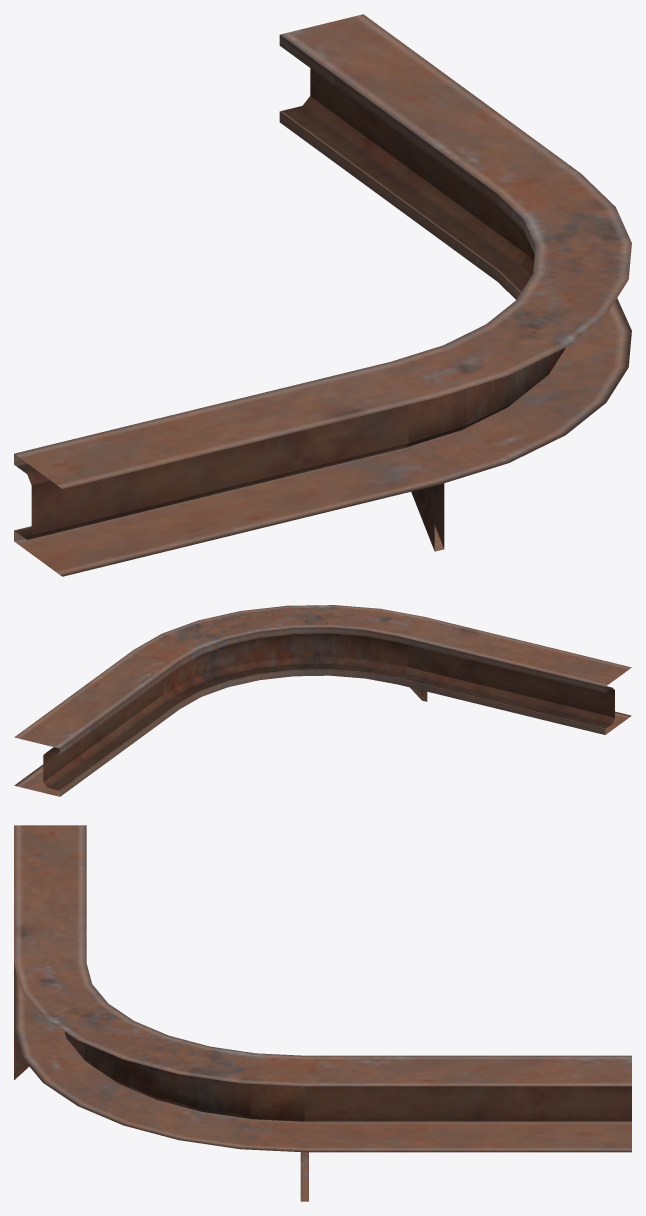
The model's file is welder_girder_concave.dae.
3 renders of one model, top to bottom at view 1: azimuth 30°, elevation 25°; view 2: azimuth 150°, elevation 25°; view 3: azimuth 270°, elevation 25°, orthographic. The views are drawn at different scales.
Visible parts, largest first — view 1: welder_girder_concave_short; view 2: welder_girder_concave_short; view 3: welder_girder_concave_short.
Boxes of the visible parts, x1,y1,x2,y2 form: welder_girder_concave_short: [14, 14, 631, 576]; welder_girder_concave_short: [14, 605, 631, 796]; welder_girder_concave_short: [14, 825, 631, 1201].
Bounding box in the file's own units: 2.12 × 0.4375 × 2.12.
